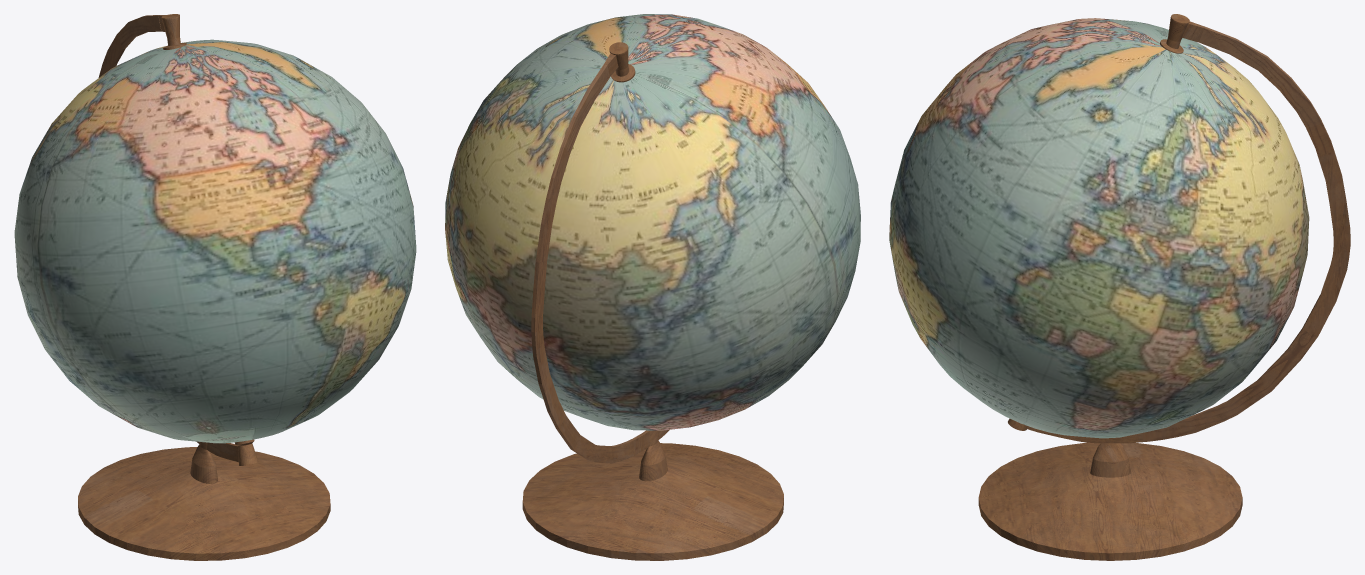
The model's file is mappamondo.fbx.
3 renders of one model, left to right at view 1: azimuth 30°, elevation 25°; view 2: azimuth 150°, elevation 25°; view 3: azimuth 270°, elevation 25°, orthographic. The views are drawn at different scales.
Parts seen in each view (by area): view 1: Sphere, Cube; view 2: Sphere, Cube; view 3: Sphere, Cube.
Boxes of the visible parts, x1,y1,x2,y2 form: Sphere: (14,39,416,443); Cube: (78,14,330,560); Sphere: (445,14,860,430); Cube: (522,42,783,560); Sphere: (889,18,1309,438); Cube: (978,14,1350,560).
Bounding box in the file's own units: 224 × 287 × 246.
